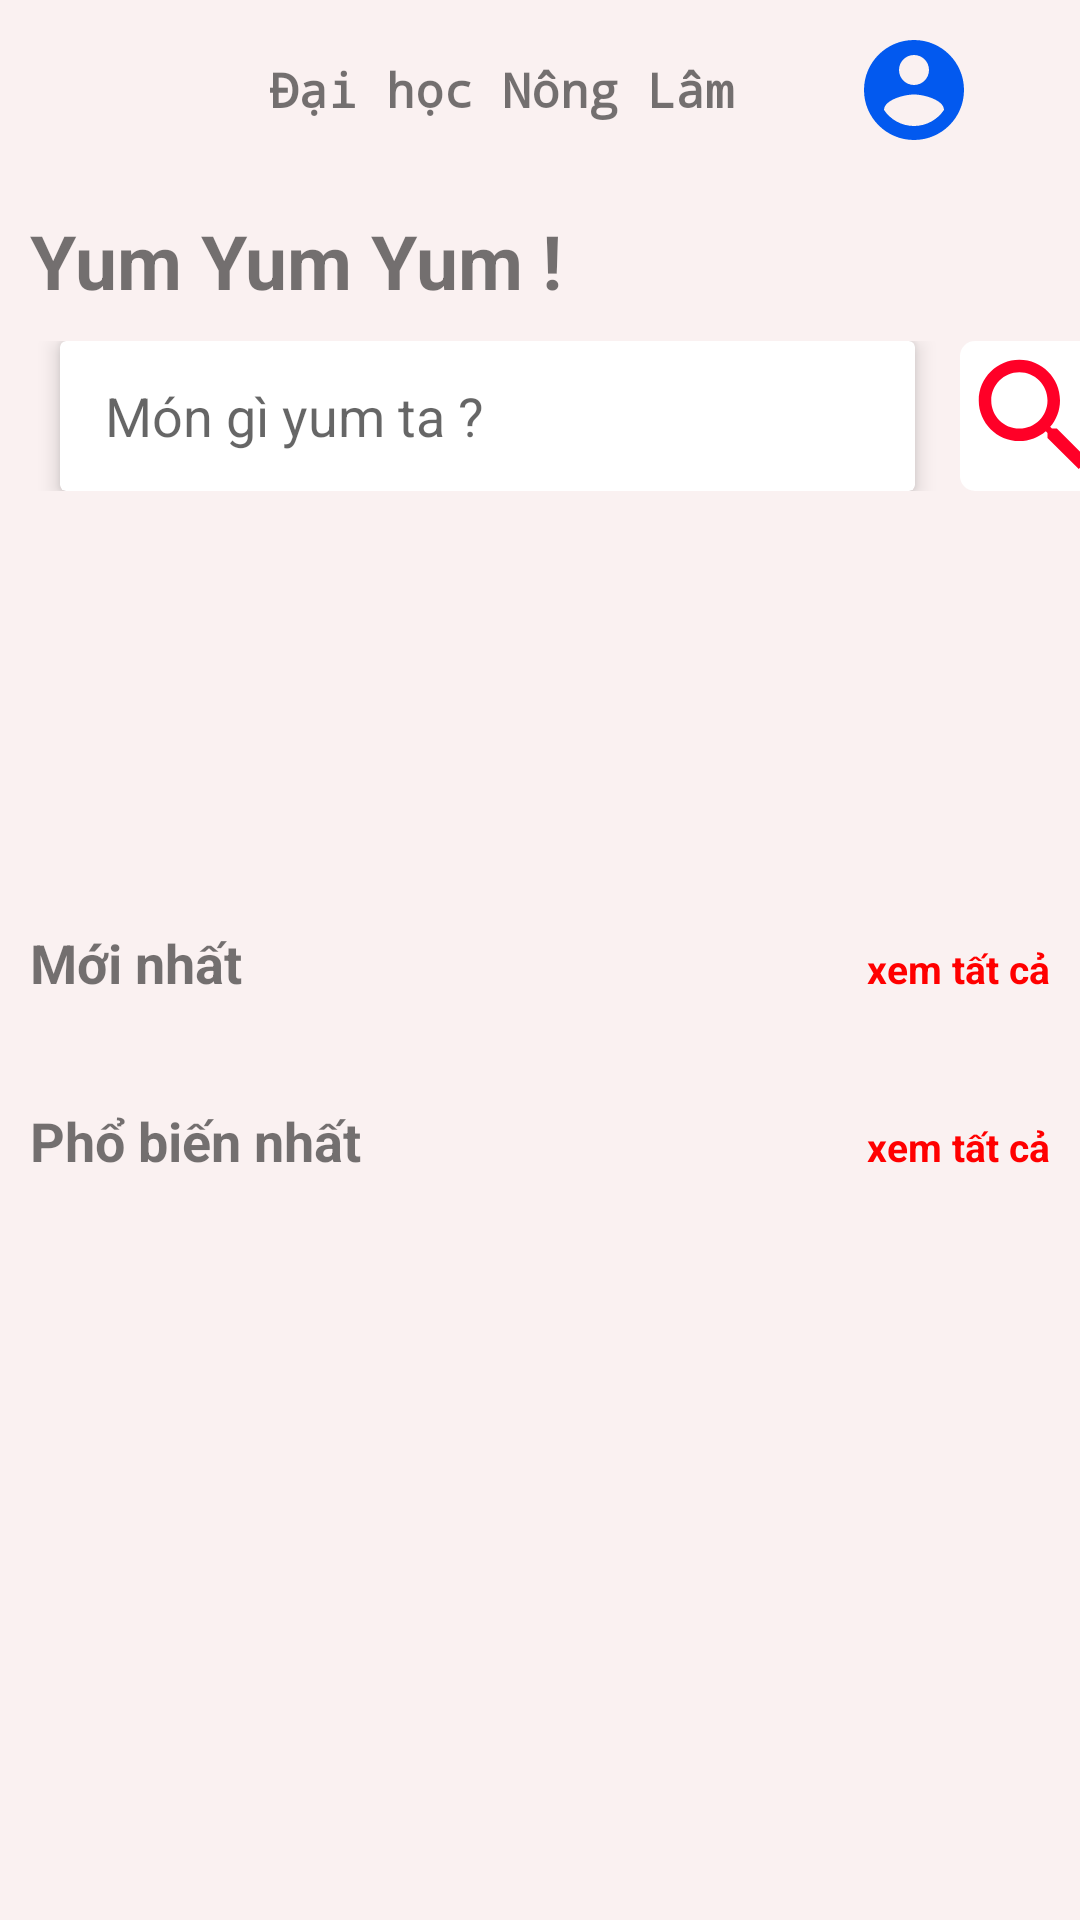

Named icons in this screenshot (1080*1920) and their bounding boxes, BBox(x1, y1, x2, y2):
account: BBox(864, 40, 964, 140)
